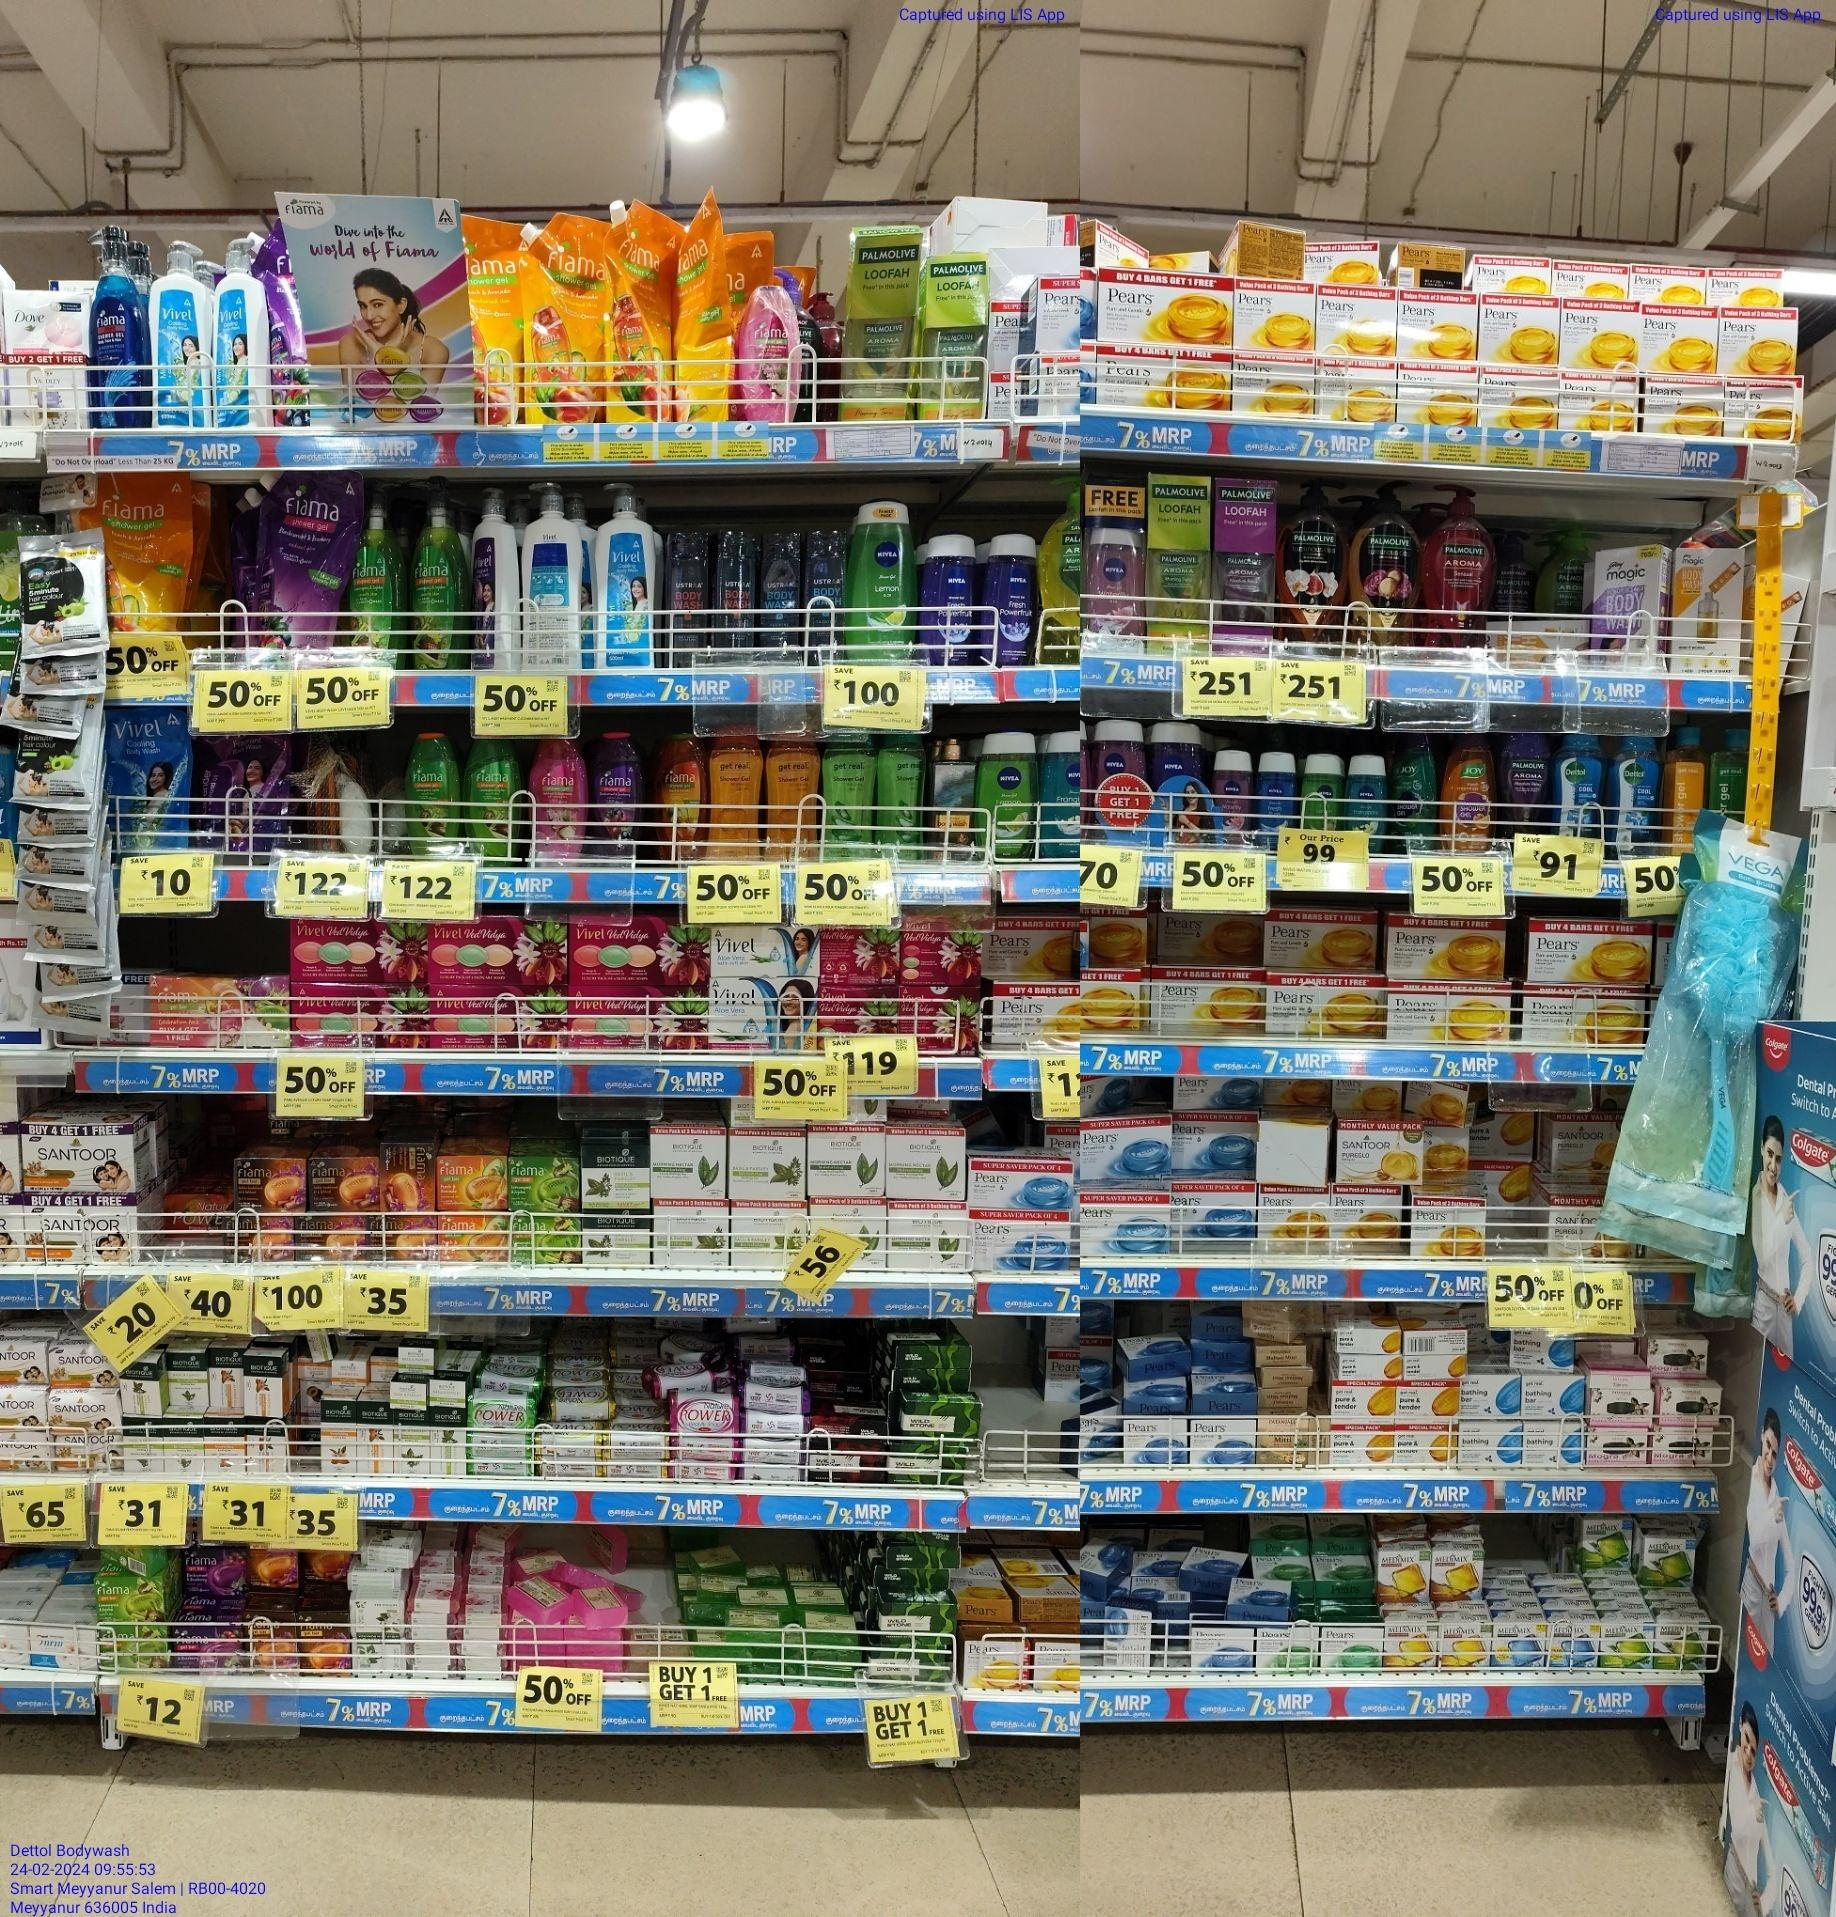Dettol_Bodywash_Cool: (1608, 729, 1660, 852), (1554, 721, 1602, 839)
Fiama_Shower_Gel_Lemongrass_and_Jojoba_250ML: (465, 739, 522, 864), (402, 736, 460, 847)
Fiama_Shower_Gel_Patchouli_and_Macadamia_250ML: (532, 738, 587, 864)
Fiama_Shower_Gel_Peach_and_Avocado_250ML: (662, 729, 702, 852)
Get_Real_Shower_Gel_Moisturising_Glycerin_300ML: (708, 734, 763, 852), (765, 743, 820, 859)
Joy_Shower_Gel_Mandarin_and_Lemongrass_250ML: (1441, 731, 1494, 856)
Joy_Shower_Gel_Mint_and_Eucalyptus_250ML: (1391, 731, 1436, 847)
Nivea_Shower_Gel_Fresh_Powerfruit_250ML: (924, 525, 979, 668), (986, 529, 1039, 662)
Nivea_Shower_Gel_Lemon_and_Oil_250ML: (850, 496, 917, 664), (977, 734, 1039, 856)
Palmolive_Aroma_Relax_250ML: (1502, 724, 1549, 835)
